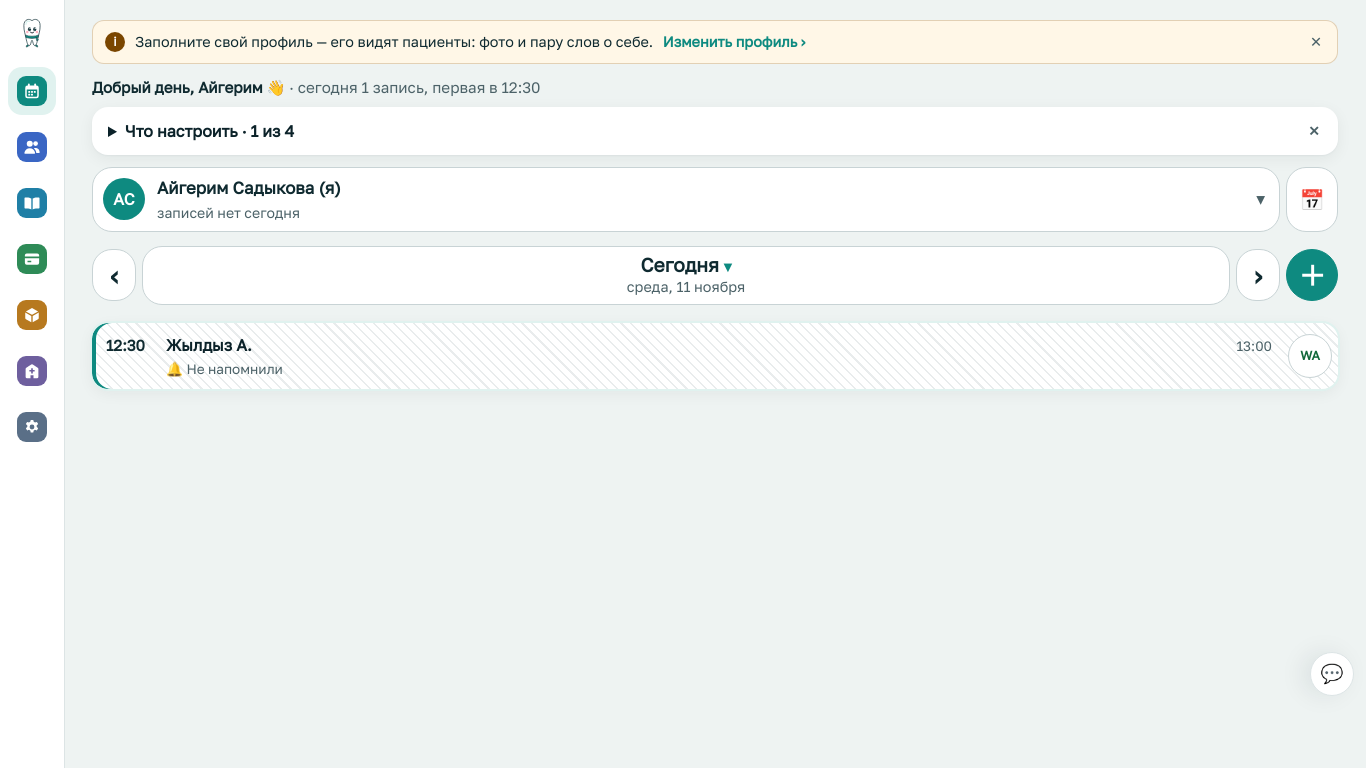
it: клиника подключила WhatsApp и шаблон утверждён — «WA» отправляет напоминание через Tish, а не открывает WhatsApp
What coordinates should you click on to do the following:
click the button "WA"
I would click on:
 (1310, 356)
Its box is [1288,334,1332,378].
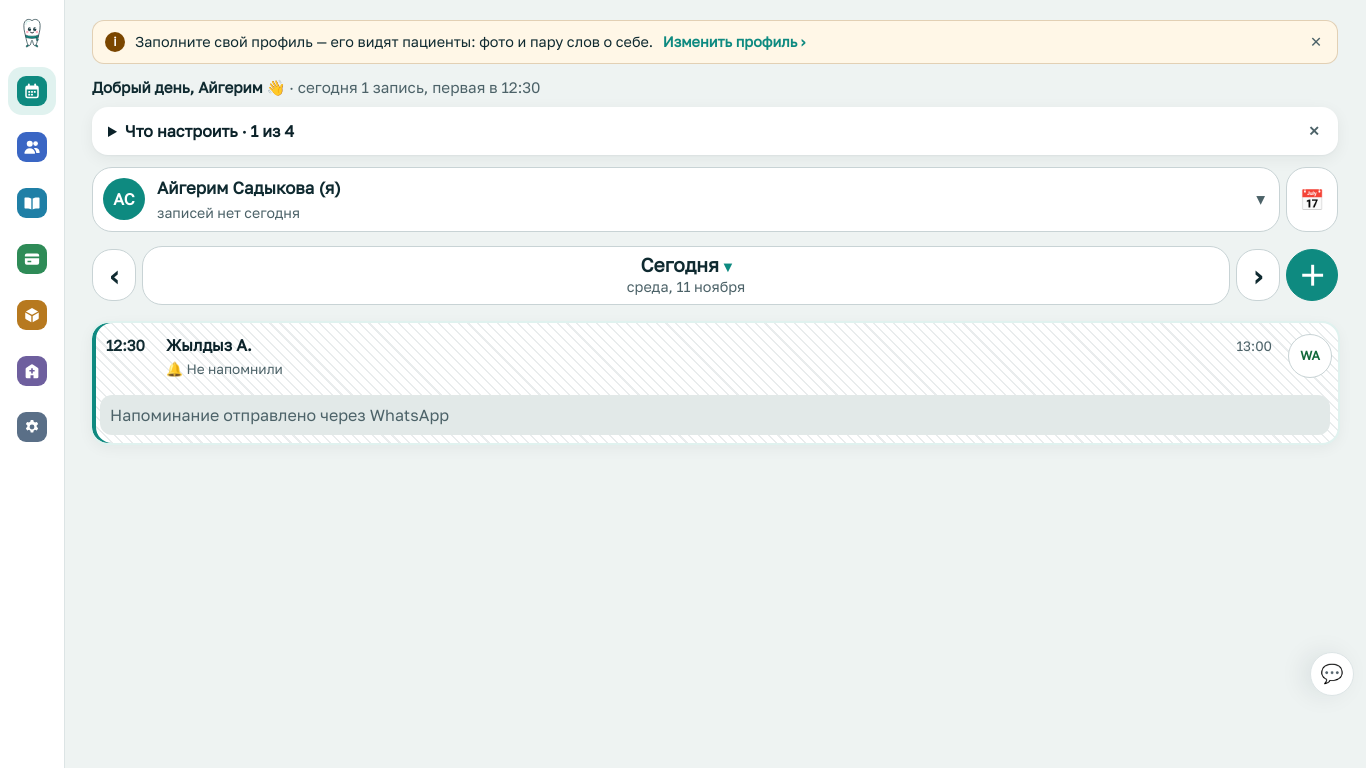
Now the text "Напоминание отправлено через WhatsApp" is shown, box [110,403,449,427]
